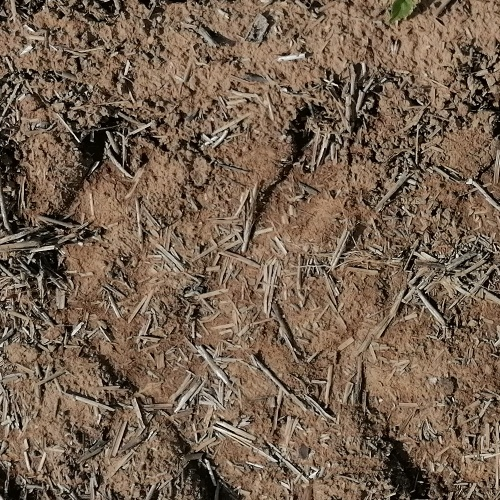beet: (389, 0, 424, 25)
